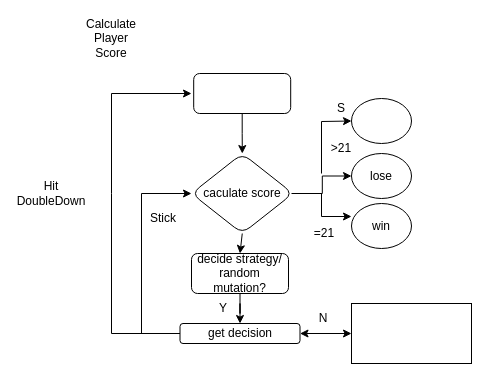
Image size: 489x381. Some labels were removed from this diagram. The shapes that lost their labels are listed below. From the top down, each one's centre as x and y in pixels, then its label:
the point at 242,93: draw card
the point at 381,121: compare delaer
the point at 411,333: get best saved strategy [dealer card, player total, results]
